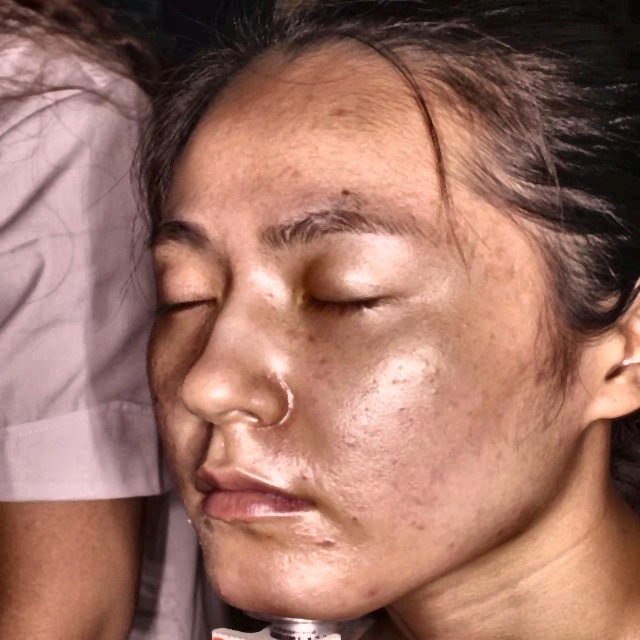comedone: (364, 577, 381, 603), (321, 533, 339, 552)
